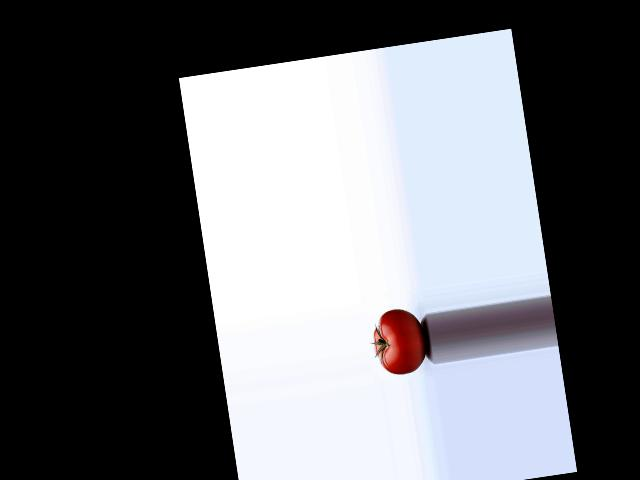tomato: (370, 305, 429, 377)
